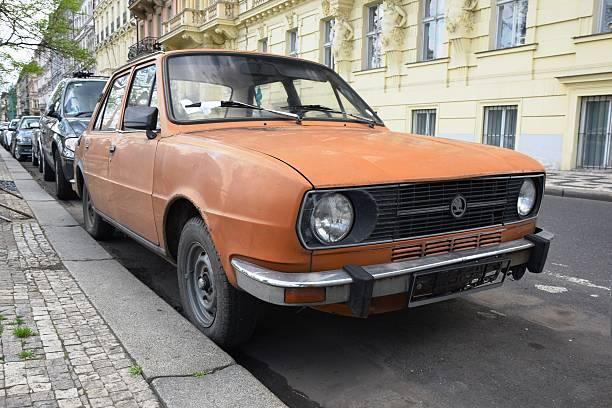skoda: (445, 194, 474, 221)
